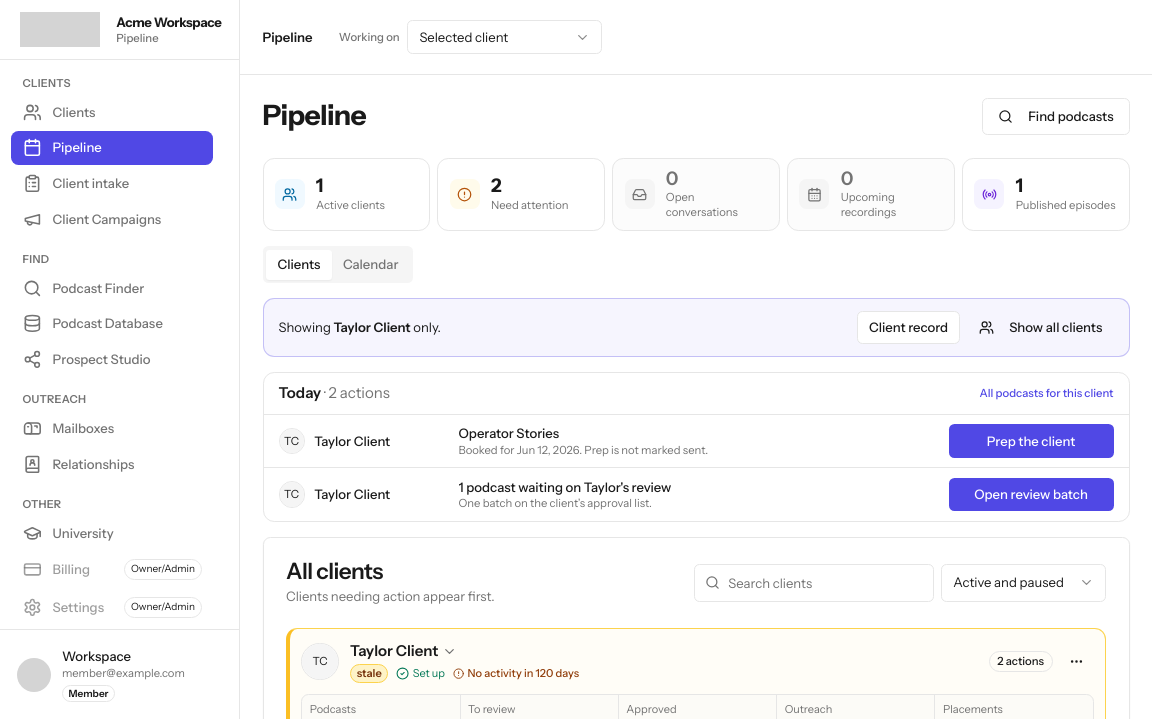
WorkspaceClientPodcastSystem › keeps raw contact emails out of the member-safe lifecycle response
Click the button "Taylor Client": x=404, y=651 [350,640,457,662]
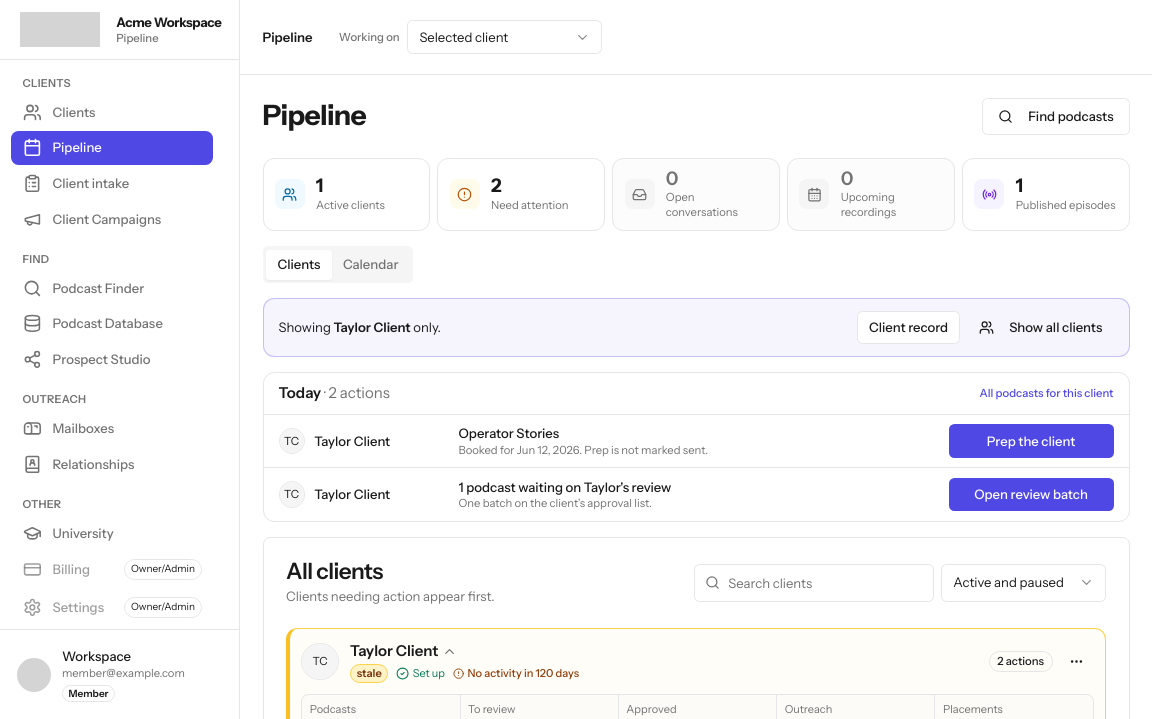
Click the button with aria-label "Prep the client: Operator Stories": x=1031, y=441 [948,424,1114,458]
(page scrolled)
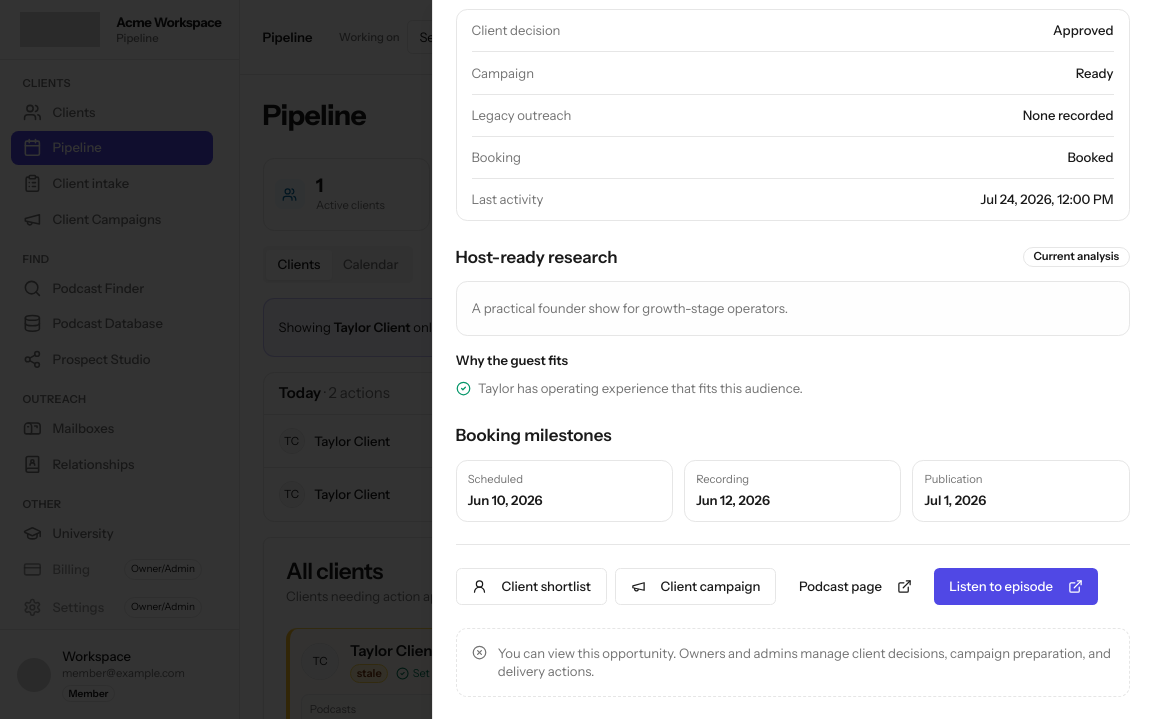
Expected: the text "Owners and admins manage client decisions" is shown, [498,644,1111,679]
